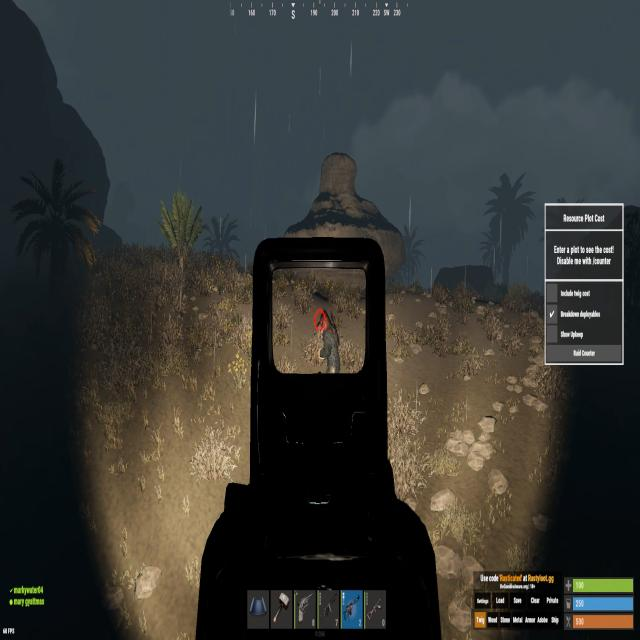Player: (315, 305, 342, 375)
